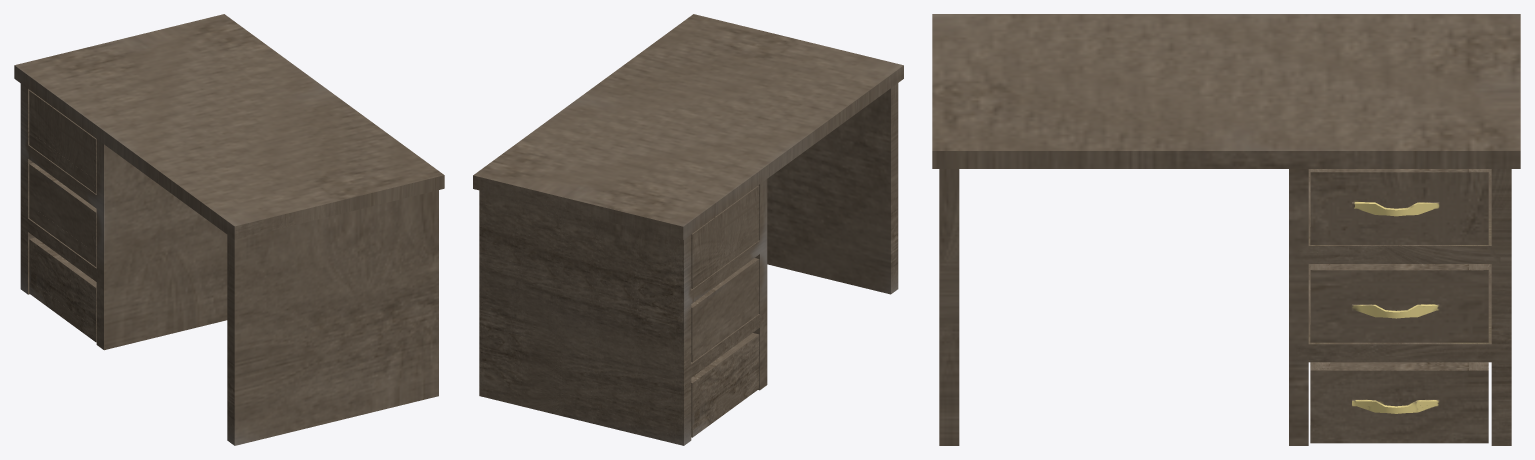
File: Desk With Textures.fbx
3 renders of one model, left to right at view 1: azimuth 30°, elevation 25°; view 2: azimuth 150°, elevation 25°; view 3: azimuth 270°, elevation 25°, orthographic. The views are drawn at different scales.
Parts seen in each view (by area): view 1: pCube4, pCube1, pCube2, pCube30, pCube31, pCube32, pCube3, pCube6, pCube5; view 2: pCube4, pCube3, pCube1, pCube30, pCube31, pCube32, pCube2, pCube5, pCube6; view 3: pCube4, pCube30, pCube31, pCube32, pCube1, pCube3, pCube2, pCube6, pCube5, pCube28, pCube29, pCube17.
Boxes of the visible parts, bbox=[...] form: pCube4: bbox=[14, 14, 444, 239]; pCube1: bbox=[227, 190, 438, 445]; pCube2: bbox=[96, 139, 227, 350]; pCube30: bbox=[29, 237, 96, 342]; pCube31: bbox=[29, 162, 96, 266]; pCube32: bbox=[29, 90, 96, 193]; pCube3: bbox=[20, 83, 35, 294]; pCube6: bbox=[21, 214, 96, 281]; pCube5: bbox=[21, 140, 96, 208]; pCube4: bbox=[473, 14, 903, 239]; pCube3: bbox=[479, 190, 691, 445]; pCube1: bbox=[767, 83, 898, 294]; pCube30: bbox=[691, 333, 759, 437]; pCube31: bbox=[691, 258, 759, 362]; pCube32: bbox=[691, 185, 759, 288]; pCube2: bbox=[753, 179, 767, 390]; pCube5: bbox=[684, 237, 764, 308]; pCube6: bbox=[685, 311, 764, 381]; pCube4: bbox=[932, 14, 1520, 168]; pCube30: bbox=[1310, 362, 1488, 443]; pCube31: bbox=[1310, 264, 1488, 342]; pCube32: bbox=[1310, 169, 1488, 244]; pCube1: bbox=[939, 169, 959, 445]; pCube3: bbox=[1491, 169, 1511, 445]; pCube2: bbox=[1289, 169, 1308, 445]; pCube6: bbox=[1296, 264, 1509, 362]; pCube5: bbox=[1296, 169, 1509, 263]; pCube28: bbox=[1352, 304, 1439, 318]; pCube29: bbox=[1352, 399, 1439, 413]; pCube17: bbox=[1352, 202, 1439, 216].
Size of the model in its own units: 5.67 by 5.45 by 9.79.
Materials: 1 (1 with a texture image).
